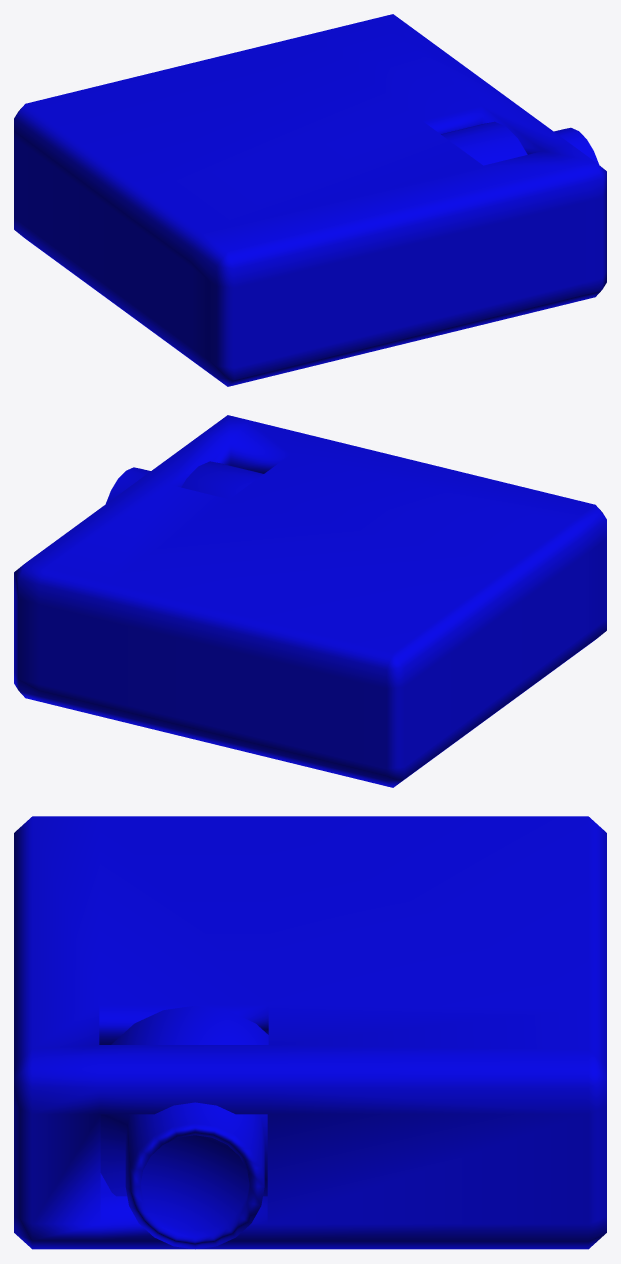
The model's file is Retro_Proj.fbx.
3 views of the same model, one above another, from view 1: azimuth 30°, elevation 25°; view 2: azimuth 150°, elevation 25°; view 3: azimuth 270°, elevation 25° (orthographic). The views are drawn at different scales.
Parts seen in each view (by area): view 1: Projo; view 2: Projo; view 3: Projo.
Part boxes in pixels (<box>): Projo: <box>14,14,606,386</box>; Projo: <box>14,415,606,787</box>; Projo: <box>14,816,606,1249</box>.
Bounding box in the file's own units: 24.65 × 7.54 × 21.81.
